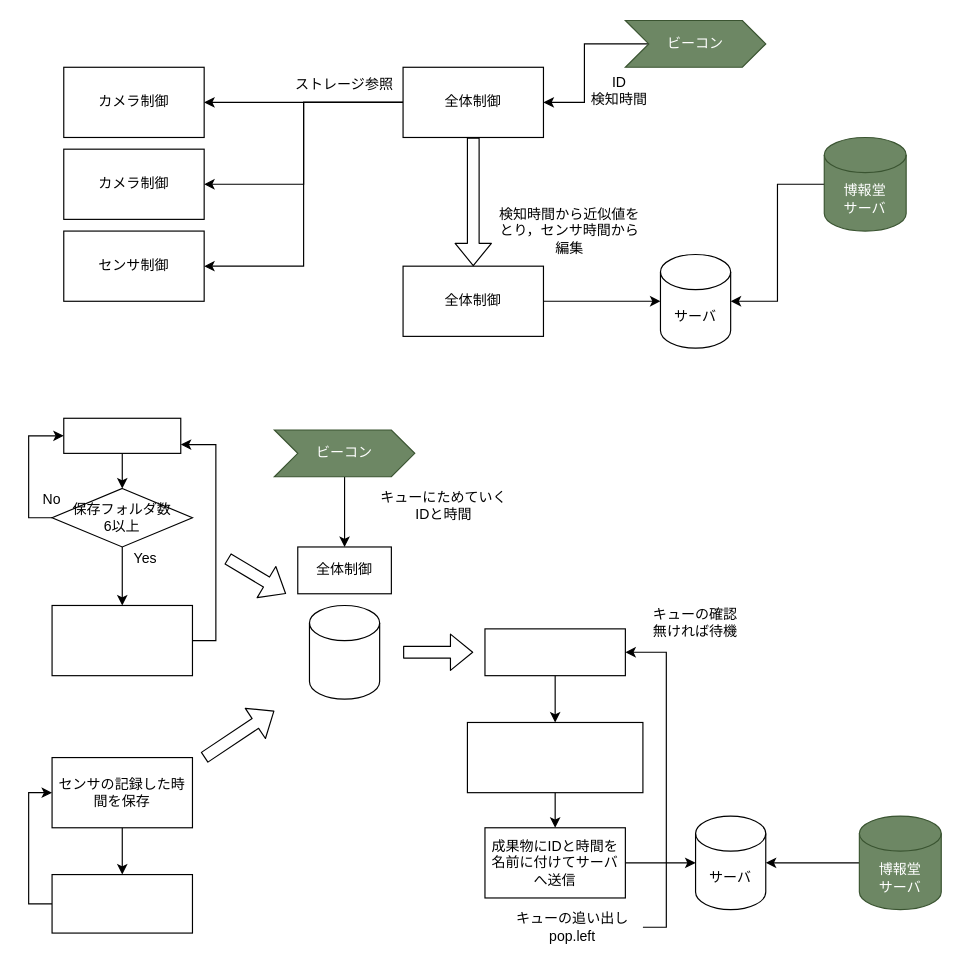
Image size: 962x965. Some labels were removed from this diagram. The shapes that lost their labels are listed below. From the top down, each one's centre as x and y in pixels, then its label:
At (x=122, y=435): "10分撮影".
At (x=121, y=640): "一番古いものを削除".
At (x=344, y=651): "共有ストレージ".
At (x=554, y=652): "ビーコンとセンサから近似値取得".
At (x=554, y=757): "近似値センサ時間でBT生成".
At (x=121, y=903): "プログラム終了時に削除".
